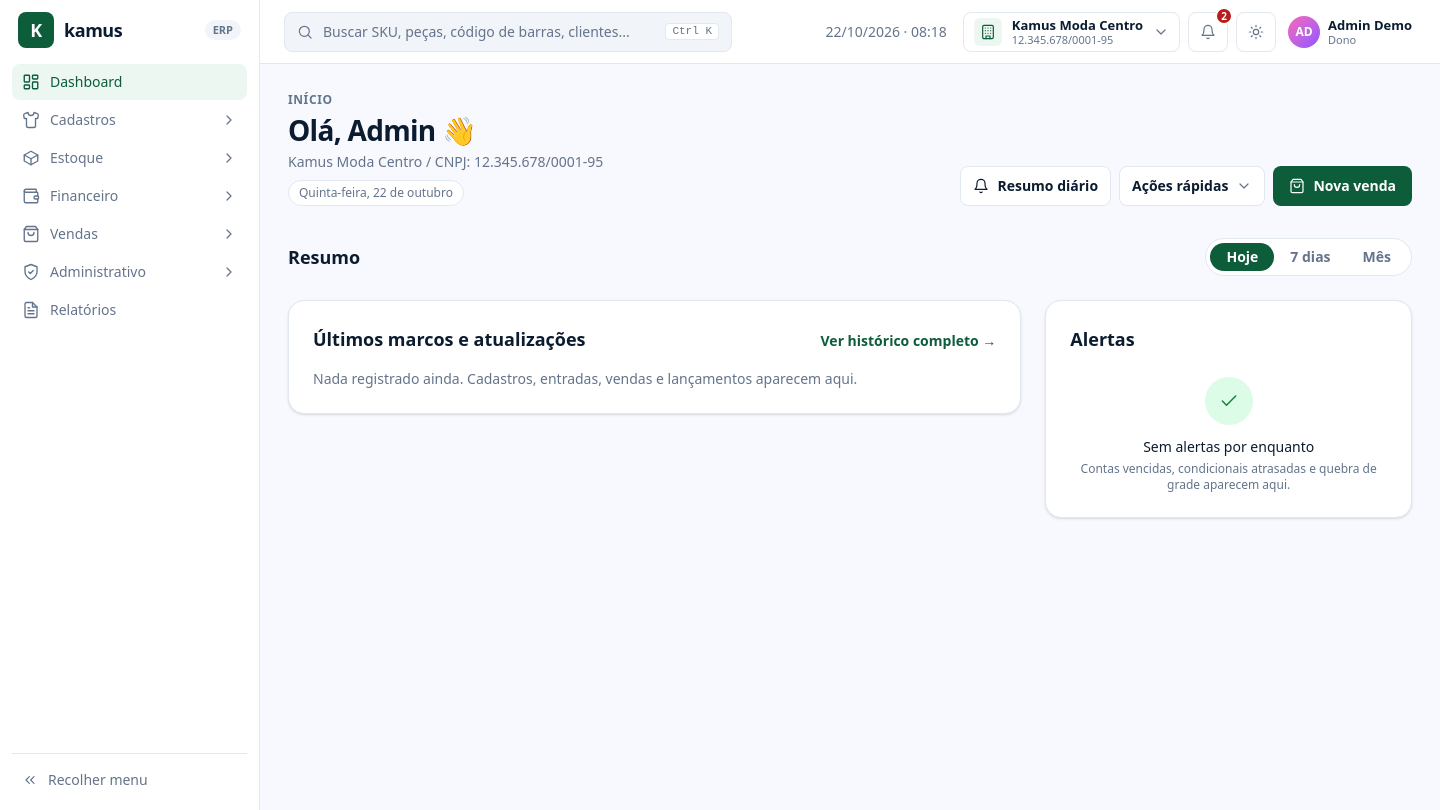
Notificações (sininho) › clicar na notificação marca como lida e abre a tela relacionada
Click the button named "Notificações" at (1208, 32), box [1188,12,1228,52]
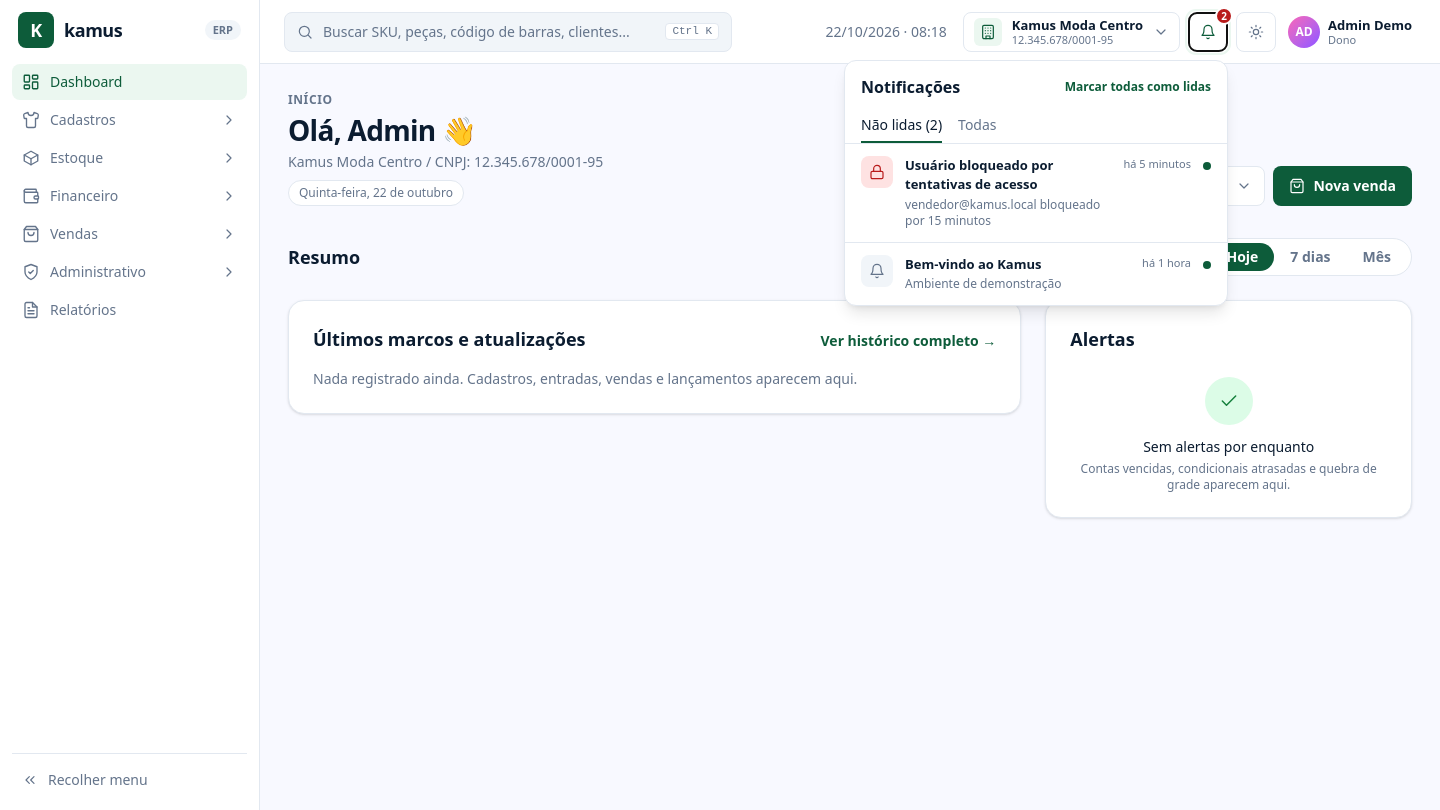
Click the button "Usuário bloqueado por tentativas de acesso" at (1036, 192), box [845,144,1227,242]
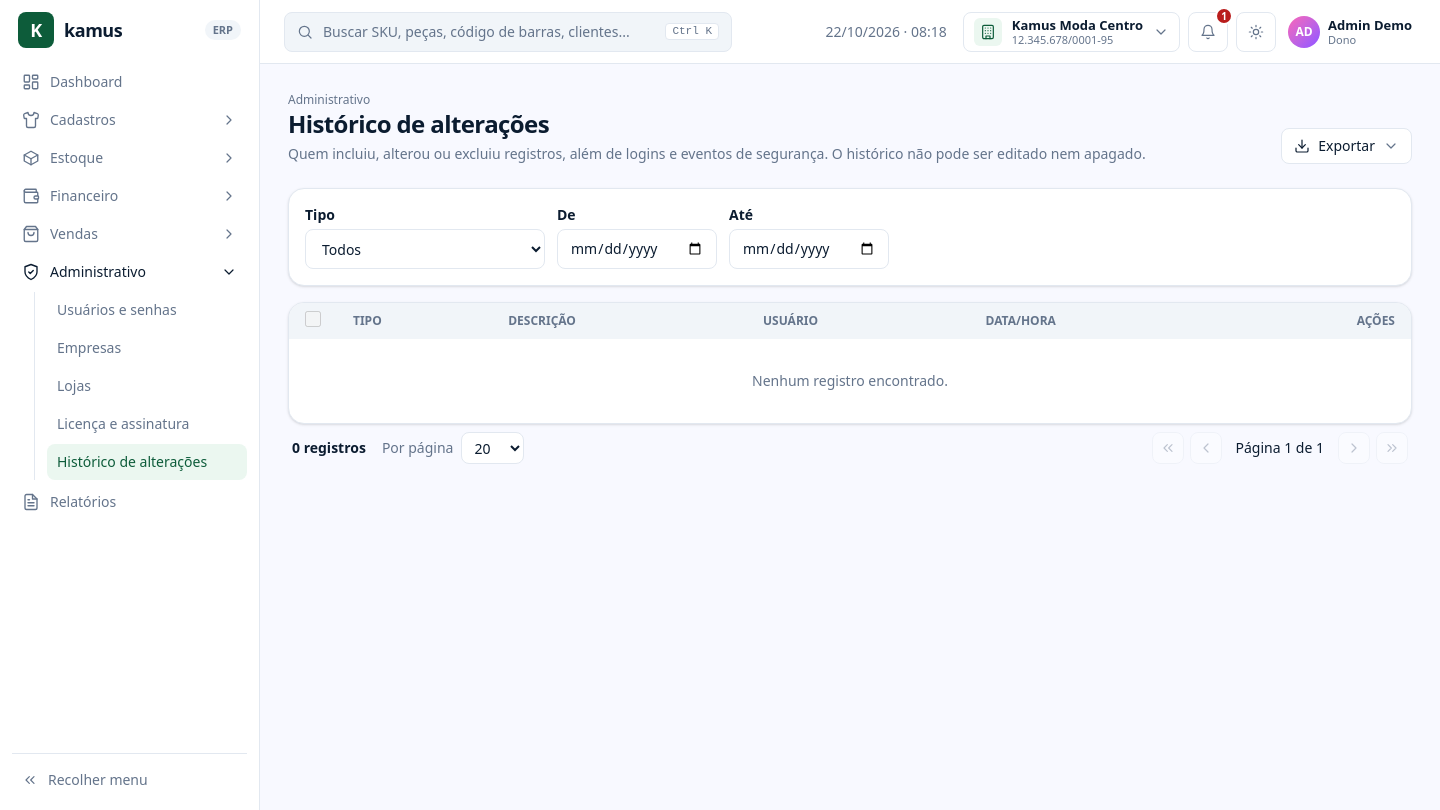
Expected: the heading "Histórico de alterações" is shown, [288,107,549,140]
Expected: the button named "Notificações: 1 não lida" is shown, [1188,12,1228,52]
